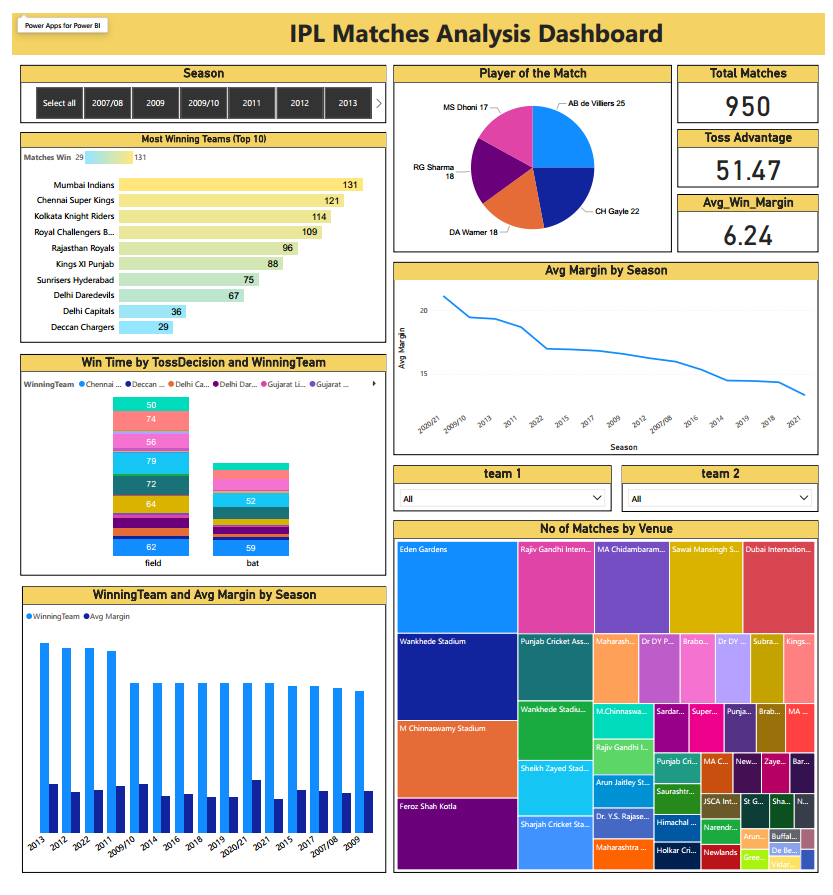

What the dashboard file says about the page in this screenshot:
{"tool":"powerbi","page":{"name":"Page 1","canvas":[1400,1500],"ordinal":0},"visuals":[{"type":"barChart","title":"Most Winning Teams (Top 10)","fields":{"Y":["ipl-matches.WinningTeam"],"Category":["ipl-matches.WinningTeam"]},"box":[12.9,205.7,631.4,362.9],"z":0},{"type":"slicer","title":"Season","fields":{"Values":["ipl-matches.Season"]},"box":[12.9,90,631.4,100],"z":1000},{"type":"treemap","fields":{"Group":["ipl-matches.Venue"],"Values":["ipl-matches.ID"]},"box":[657.1,875.7,732.9,608.6],"z":2000},{"type":"slicer","title":"team 1","fields":{"Values":["ipl-matches.Team1"]},"box":[657.1,781.4,375.7,78.6],"z":3000},{"type":"slicer","title":"team 2","fields":{"Values":["ipl-matches.Team2"]},"box":[1051.4,781.4,338.6,80],"z":4000},{"type":"pieChart","title":"Player of the Match","fields":{"Y":["ipl-matches.Player_of_Match"],"Category":["ipl-matches.Player_of_Match"]},"box":[657.1,90,480,322.9],"z":5000},{"type":"columnChart","fields":{"Category":["ipl-matches.TossDecision"],"Y":["ipl-matches.WinningTeam"],"Series":["ipl-matches.WinningTeam"]},"box":[12.9,588.6,631.4,382.9],"z":6000},{"type":"textbox","box":[0,0,1600,71.7],"z":7000},{"type":"lineChart","fields":{"Category":["ipl-matches.Season"],"Y":["ipl-matches.Margin"]},"box":[657.1,430,732.9,332.9],"z":8000},{"type":"clusteredColumnChart","fields":{"Category":["ipl-matches.Season"],"Y":["ipl-matches.WinningTeam","ipl-matches.Margin"]},"box":[15.7,990,628.6,494.3],"z":9000},{"type":"card","title":"Total Matches","fields":{"Values":["Measures Table.Total Matches"]},"box":[1147.1,90,242.9,100],"z":10000},{"type":"card","title":"Toss Advantage","fields":{"Values":["Measures Table.Toss Win Probability"]},"box":[1147.1,201.4,242.9,100],"z":11000},{"type":"card","title":"Avg_Win_Margin","fields":{"Values":["Measures Table.AvgWinMargin_Wickets"]},"box":[1147.1,312.9,242.9,100],"z":12000}]}

Visuals, with their boxes in screenshot pixels (x1, y1, x2, y2):
"Most Winning Teams (Top 10)" barChart: 33:147:390:352
"Season" slicer: 33:81:390:138
treemap - ipl-matches.Venue x ipl-matches.ID: 397:525:811:869
"team 1" slicer: 397:472:610:516
"team 2" slicer: 620:472:811:517
"Player of the Match" pieChart: 397:81:668:264
columnChart - ipl-matches.TossDecision x ipl-matches.WinningTeam: 33:363:390:580
textbox: 26:30:832:71
lineChart - ipl-matches.Season x ipl-matches.Margin: 397:273:811:462
clusteredColumnChart - ipl-matches.Season x ipl-matches.WinningTeam: 35:590:390:869
"Total Matches" card: 674:81:811:138
"Toss Advantage" card: 674:144:811:201
"Avg_Win_Margin" card: 674:207:811:264
